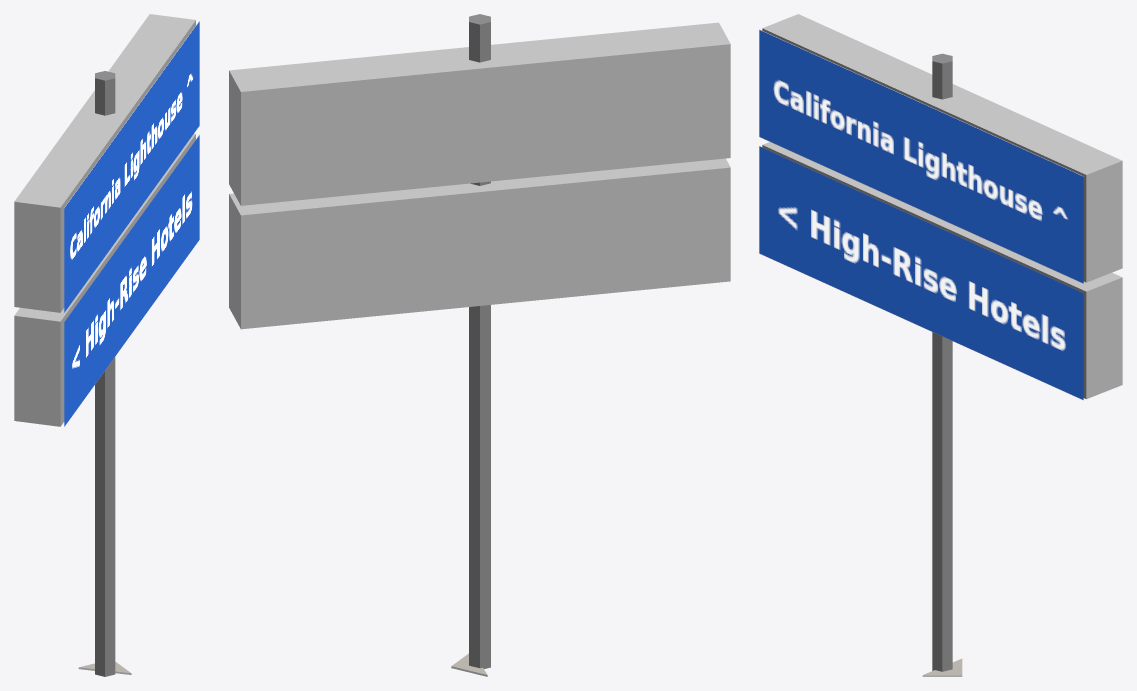
File: gs_lighthouse.glb
3 views of the same model, side by side, from view 1: azimuth 30°, elevation 25°; view 2: azimuth 150°, elevation 25°; view 3: azimuth 270°, elevation 25° (orthographic). The views are drawn at different scales.
Parts seen in each view (by area): view 1: gs_lighthouse_lod0; view 2: gs_lighthouse_lod0; view 3: gs_lighthouse_lod0.
Boxes of the visible parts, bbox=[...] form: gs_lighthouse_lod0: bbox=[14, 14, 199, 676]; gs_lighthouse_lod0: bbox=[229, 14, 730, 676]; gs_lighthouse_lod0: bbox=[759, 14, 1122, 676].
Size of what is drawn, in the model's own units: 1.94 by 3.4 by 1.84.
Materials: 5 (1 with a texture image).
